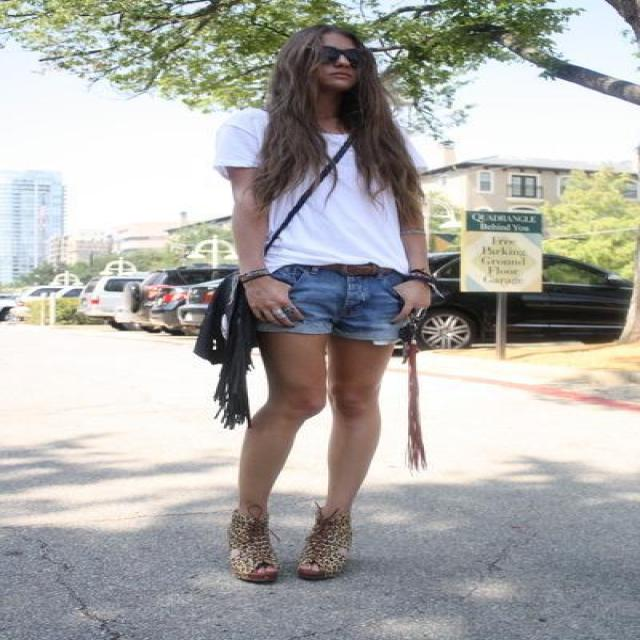shirt: (218, 107, 406, 273)
shoe: (226, 511, 350, 584)
shorts: (250, 262, 416, 344)
